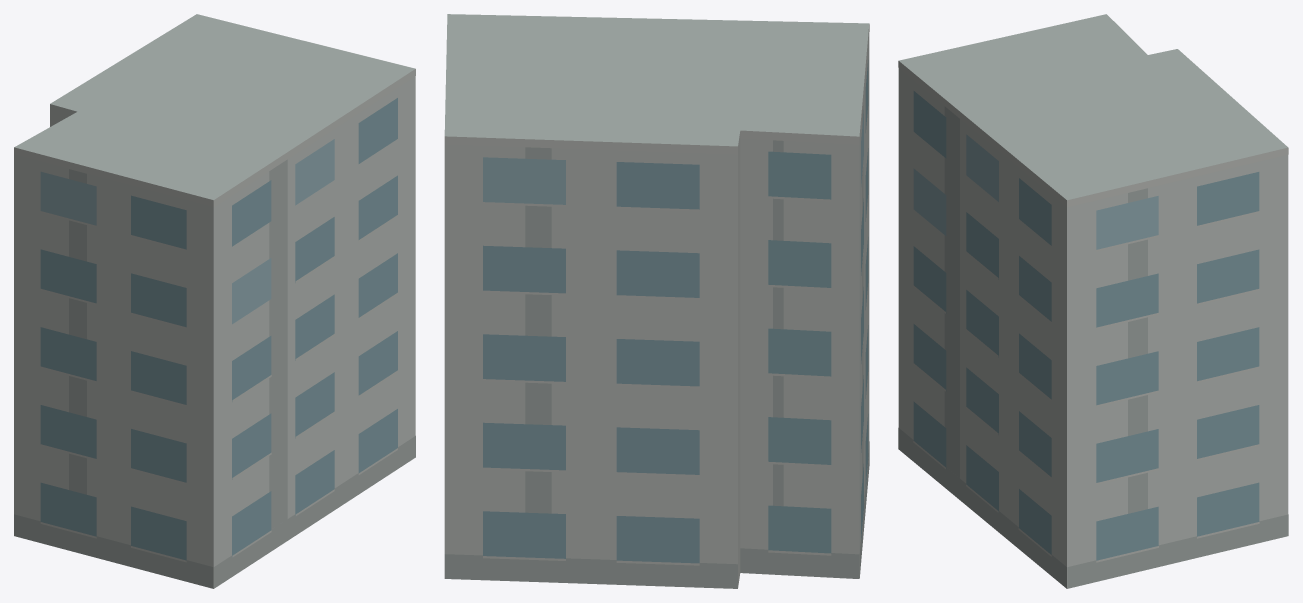
Rendered from survey-upis-32834857.glb.
3 views of the same model, side by side, from view 1: azimuth 30°, elevation 25°; view 2: azimuth 150°, elevation 25°; view 3: azimuth 270°, elevation 25° (orthographic). The views are drawn at different scales.
Visible parts, largest first — view 1: survey-upis-32834857.tmp; view 2: survey-upis-32834857.tmp; view 3: survey-upis-32834857.tmp.
Boxes of the visible parts, x1,y1,x2,y2 form: survey-upis-32834857.tmp: [14, 14, 415, 588]; survey-upis-32834857.tmp: [444, 14, 869, 588]; survey-upis-32834857.tmp: [898, 14, 1288, 588].
Size of the model in its own units: 13.58 by 13.2 by 12.01.
